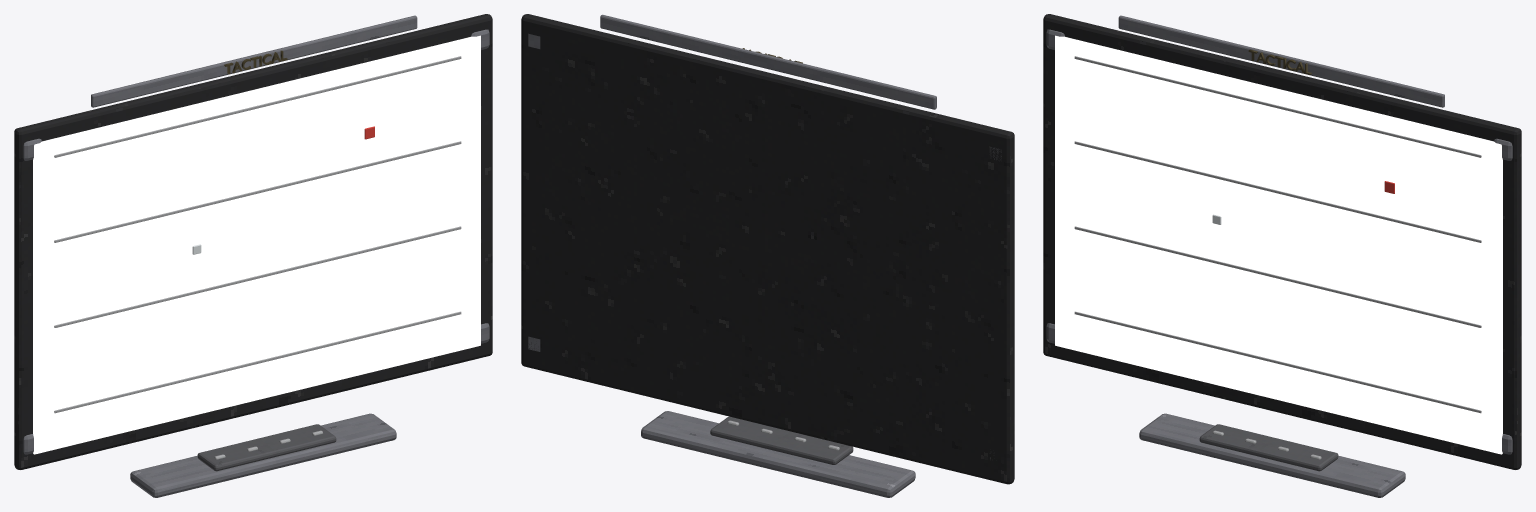
The model's file is decor_bridge_viewscreen.glb.
3 views of the same model, side by side, from view 1: azimuth 30°, elevation 25°; view 2: azimuth 150°, elevation 25°; view 3: azimuth 330°, elevation 25° (orthographic). The views are drawn at different scales.
Parts seen in each view (by area): view 1: DEC_BridgeViewscreen__Screen_Glow, DEC_BridgeViewscreen__Frame_Back, DEC_BridgeViewscreen__Shelf, DEC_BridgeViewscreen__Header_Band, DEC_BridgeViewscreen__Shelf_Panel, DEC_BridgeViewscreen__Scan_Bar_1, DEC_BridgeViewscreen__Scan_Bar_2, DEC_BridgeViewscreen__Scan_Bar_4, DEC_BridgeViewscreen__Scan_Bar_3; view 2: DEC_BridgeViewscreen__Frame_Back, DEC_BridgeViewscreen__Shelf, DEC_BridgeViewscreen__Header_Band, DEC_BridgeViewscreen__Shelf_Panel; view 3: DEC_BridgeViewscreen__Screen_Glow, DEC_BridgeViewscreen__Frame_Back, DEC_BridgeViewscreen__Shelf, DEC_BridgeViewscreen__Header_Band, DEC_BridgeViewscreen__Shelf_Panel, DEC_BridgeViewscreen__Scan_Bar_1, DEC_BridgeViewscreen__Scan_Bar_2, DEC_BridgeViewscreen__Scan_Bar_4, DEC_BridgeViewscreen__Scan_Bar_3.
Part boxes in pixels (x1,y1,x2,y2): DEC_BridgeViewscreen__Screen_Glow: (33,35,480,454); DEC_BridgeViewscreen__Frame_Back: (14,14,492,469); DEC_BridgeViewscreen__Shelf: (130,413,396,497); DEC_BridgeViewscreen__Header_Band: (91,15,417,107); DEC_BridgeViewscreen__Shelf_Panel: (197,424,336,471); DEC_BridgeViewscreen__Scan_Bar_1: (54,311,461,413); DEC_BridgeViewscreen__Scan_Bar_2: (54,226,461,327); DEC_BridgeViewscreen__Scan_Bar_4: (54,56,461,157); DEC_BridgeViewscreen__Scan_Bar_3: (54,141,461,242); DEC_BridgeViewscreen__Frame_Back: (521,14,1014,484); DEC_BridgeViewscreen__Shelf: (641,411,915,497); DEC_BridgeViewscreen__Header_Band: (600,14,936,109); DEC_BridgeViewscreen__Shelf_Panel: (710,416,853,464); DEC_BridgeViewscreen__Screen_Glow: (1055,35,1502,454); DEC_BridgeViewscreen__Frame_Back: (1043,14,1521,469); DEC_BridgeViewscreen__Shelf: (1139,413,1405,497); DEC_BridgeViewscreen__Header_Band: (1118,15,1444,107); DEC_BridgeViewscreen__Shelf_Panel: (1199,424,1338,471); DEC_BridgeViewscreen__Scan_Bar_1: (1074,311,1481,413); DEC_BridgeViewscreen__Scan_Bar_2: (1074,226,1481,327); DEC_BridgeViewscreen__Scan_Bar_4: (1074,56,1481,157); DEC_BridgeViewscreen__Scan_Bar_3: (1074,141,1481,242).
Bounding box in the file's own units: 2.34 × 1.88 × 0.22.
8 materials, 4 textured.
